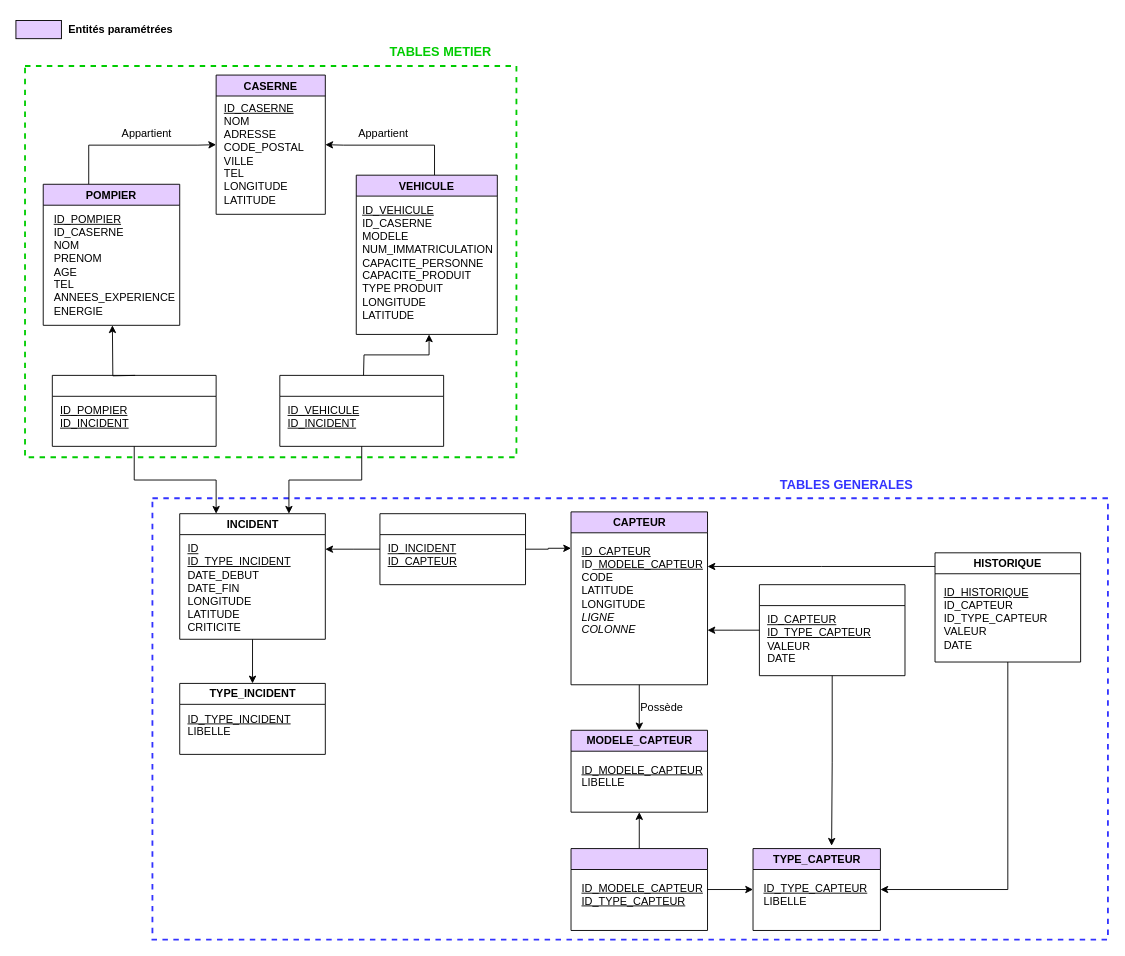
The diagram is 1125 pixels wide and 956 high, and some of its shapes have lost their labels. The box of each missing label's shape, as (x1, y1, x2, y2) in pixels:
CAPTEUR_DONNEE: (758, 584, 905, 676)
DETECTION: (379, 513, 526, 585)
MODELE_TYPE_CAPTEUR: (570, 848, 708, 930)
POMPIER_INCIDENT: (51, 374, 216, 446)
VEHICULE_INCIDENT: (279, 374, 444, 446)
